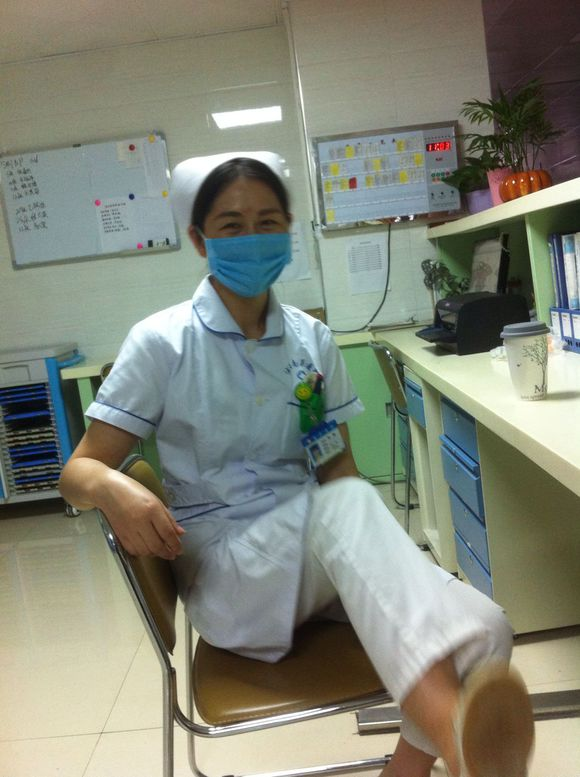face_mask: (206, 176, 285, 294)
